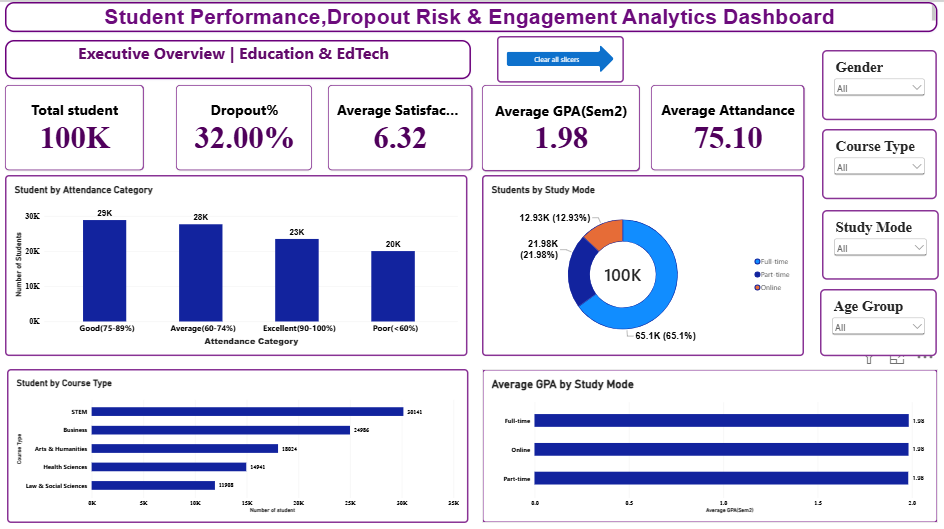

Layout of this report page (visuals, bound fields, positions):
{"tool":"powerbi","page":{"name":"Executive Overview","canvas":[1920,1080],"ordinal":0},"visuals":[{"type":"textbox","box":[36.2,0,1858.5,59.7],"z":0},{"type":"textbox","box":[36.7,75.6,928.8,77.8],"z":1000},{"type":"cardVisual","fields":{"Data":["student_dropout_risk_2026 (2).Total student"]},"box":[36.7,166.3,276.9,170.1],"z":2000},{"type":"cardVisual","fields":{"Data":["student_dropout_risk_2026 (2).Average GPA","student_dropout_risk_2026 (2).Average GPA"]},"box":[987.1,166.3,314.9,171.9],"z":3000},{"type":"cardVisual","fields":{"Data":["student_dropout_risk_2026 (2).Average Attandance"]},"box":[1324.1,166.3,305.8,170.1],"z":4000},{"type":"cardVisual","fields":{"Data":["student_dropout_risk_2026 (2).Dropout%"]},"box":[375.8,166.3,271.4,170.1],"z":5000},{"type":"cardVisual","fields":{"Data":["student_dropout_risk_2026 (2).Average Satisfaction"]},"box":[680.4,166.3,287.7,170.1],"z":6000},{"type":"clusteredBarChart","title":"Student by Course Type","fields":{"Category":["student_dropout_risk_2026 (2).course_type"],"Y":["student_dropout_risk_2026 (2).Total student"]},"box":[38.9,732.2,920.2,306.7],"z":8000},{"type":"clusteredColumnChart","title":"Student by Attendance Category","fields":{"Category":["student_dropout_risk_2026 (2).Attendance_Category"],"Y":["CountNonNull(student_dropout_risk_2026 (2).person_id)"]},"box":[36.7,345.6,922.3,360.7],"z":10000},{"type":"clusteredBarChart","title":"Average GPA by Study Mode","fields":{"Category":["student_dropout_risk_2026 (2).study_mode"],"Y":["student_dropout_risk_2026 (2).Average GPA"]},"box":[987.1,732.2,909.4,306.7],"z":11000},{"type":"slicer","fields":{"Values":["student_dropout_risk_2026 (2).gender"]},"box":[1665.4,95,229,140.4],"z":12000},{"type":"slicer","fields":{"Values":["student_dropout_risk_2026 (2).course_type"]},"box":[1665.4,252.7,229,140.4],"z":13000},{"type":"slicer","fields":{"Values":["student_dropout_risk_2026 (2).study_mode"]},"box":[1665.4,414.7,233.4,139.3],"z":14000},{"type":"slicer","fields":{"Values":["student_dropout_risk_2026 (2).Age_Group"]},"box":[1661,572.4,233.4,133.9],"z":15000},{"type":"actionButton","box":[1017.4,67,252.7,92.9],"z":15001},{"type":"donutChart","title":" Students by Study Mode","fields":{"Category":["student_dropout_risk_2026 (2).study_mode"],"Y":["Count(student_dropout_risk_2026 (2).person_id)"]},"box":[987.1,345.6,641.5,360.7],"z":15002}]}

Visuals, with their boxes in screenshot pixels (x1, y1, x2, y2), scaled from the page's 1920x1080 canvas onto the 944x529 screenshot:
textbox: [left=18, top=0, right=932, bottom=29]
textbox: [left=18, top=37, right=475, bottom=75]
cardVisual - student_dropout_risk_2026 (2).Total student: [left=18, top=81, right=154, bottom=165]
cardVisual - student_dropout_risk_2026 (2).Average GPA x student_dropout_risk_2026 (2).Average GPA: [left=485, top=81, right=640, bottom=166]
cardVisual - student_dropout_risk_2026 (2).Average Attandance: [left=651, top=81, right=801, bottom=165]
cardVisual - student_dropout_risk_2026 (2).Dropout%: [left=185, top=81, right=318, bottom=165]
cardVisual - student_dropout_risk_2026 (2).Average Satisfaction: [left=335, top=81, right=476, bottom=165]
"Student by Course Type" clusteredBarChart: [left=19, top=359, right=472, bottom=509]
"Student by Attendance Category" clusteredColumnChart: [left=18, top=169, right=472, bottom=346]
"Average GPA by Study Mode" clusteredBarChart: [left=485, top=359, right=932, bottom=509]
slicer - student_dropout_risk_2026 (2).gender: [left=819, top=47, right=931, bottom=115]
slicer - student_dropout_risk_2026 (2).course_type: [left=819, top=124, right=931, bottom=193]
slicer - student_dropout_risk_2026 (2).study_mode: [left=819, top=203, right=934, bottom=271]
slicer - student_dropout_risk_2026 (2).Age_Group: [left=817, top=280, right=931, bottom=346]
actionButton: [left=500, top=33, right=624, bottom=78]
" Students by Study Mode" donutChart: [left=485, top=169, right=801, bottom=346]
